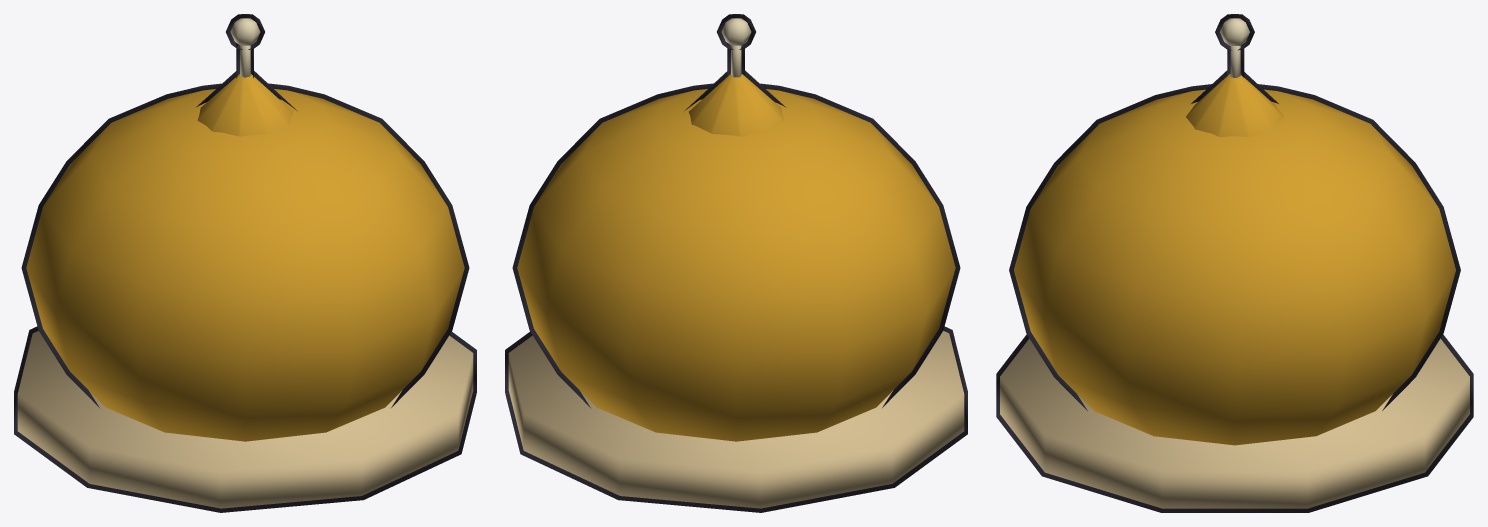
File: onion_dome.glb
3 views of the same model, side by side, from view 1: azimuth 30°, elevation 25°; view 2: azimuth 150°, elevation 25°; view 3: azimuth 270°, elevation 25° (orthographic).
Parts seen in each view (by area): view 1: onion_dome; view 2: onion_dome; view 3: onion_dome.
Boxes of the visible parts, bbox=[...] form: onion_dome: bbox=[14, 14, 476, 512]; onion_dome: bbox=[505, 14, 967, 512]; onion_dome: bbox=[996, 14, 1473, 512].
Bounding box in the file's own units: 6.57 × 6.72 × 6.91.
